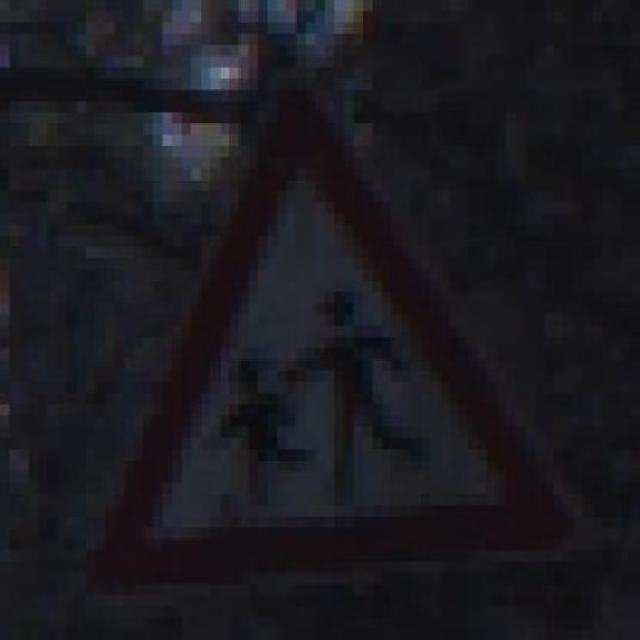Beware of children: (57, 68, 592, 595)
